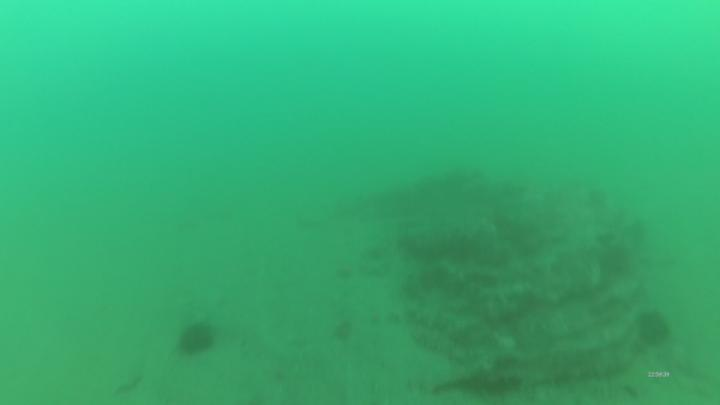echinus: (640, 310, 666, 347), (182, 325, 212, 352)
